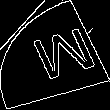M_S: (16, 23, 94, 87)
